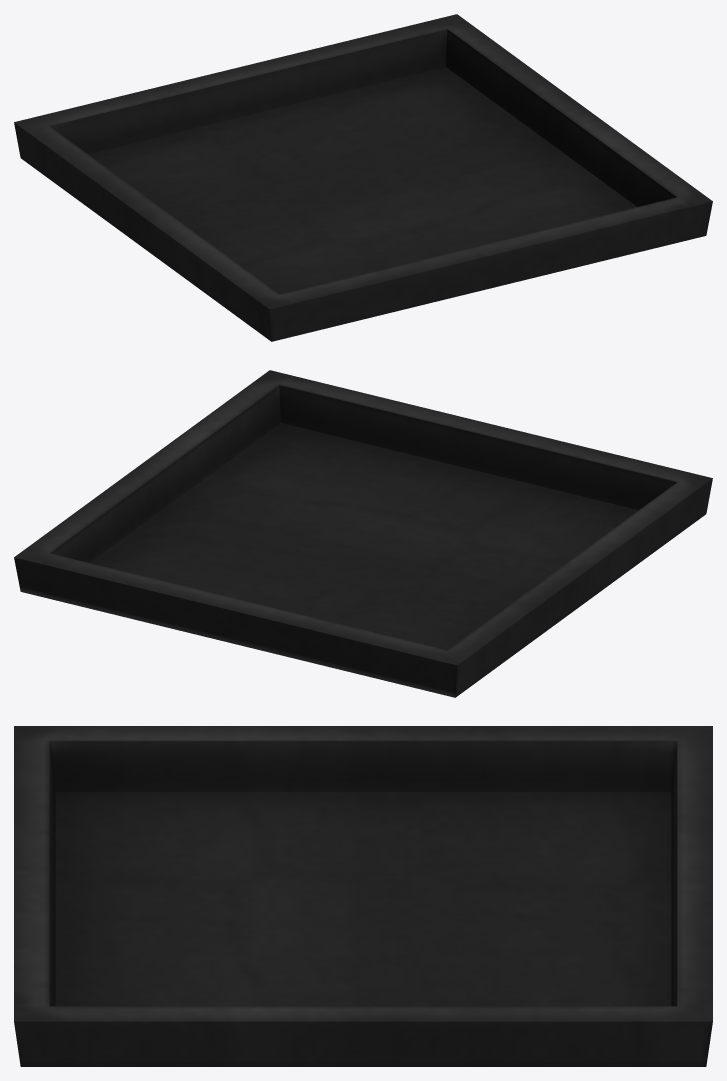
Rendered from B8_Roof.FBX.
3 renders of one model, top to bottom at view 1: azimuth 30°, elevation 25°; view 2: azimuth 150°, elevation 25°; view 3: azimuth 270°, elevation 25°, orthographic. The views are drawn at different scales.
Visible parts, largest first — view 1: B8_Roof; view 2: B8_Roof; view 3: B8_Roof.
Boxes of the visible parts, x1,y1,x2,y2 form: B8_Roof: (14, 14, 712, 341); B8_Roof: (14, 370, 712, 697); B8_Roof: (14, 726, 712, 1066).
Size of the model in its own units: 12.23 by 0.9286 by 12.23.
